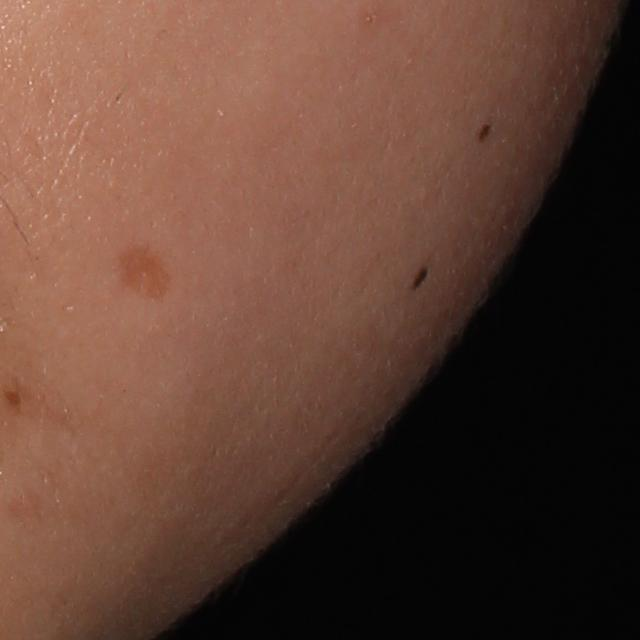nevus: (409, 264, 430, 294), (478, 122, 492, 146)
